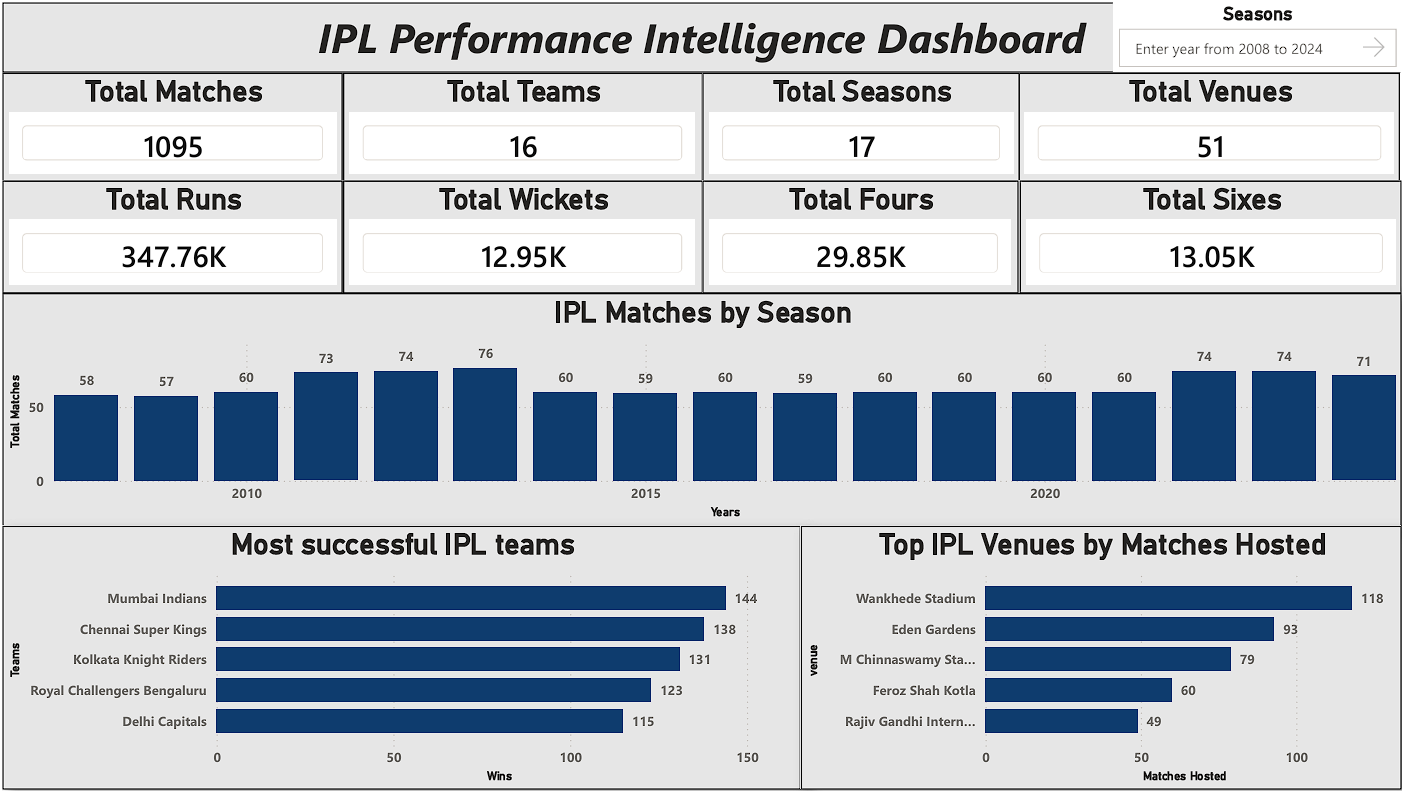

The page's visual inventory and layout, read from the dashboard file:
{"tool":"powerbi","page":{"name":"Page 1","canvas":[1280,720],"ordinal":0},"visuals":[{"type":"cardVisual","title":"Total Teams","fields":{"Data":["matches_cleaned.Total Teams"]},"box":[311.4,64.3,328.6,98.6],"z":0},{"type":"cardVisual","title":"Total Venues","fields":{"Data":["matches_cleaned.Total Venues"]},"box":[928.6,64.3,350,98.6],"z":1000},{"type":"cardVisual","title":"Total Seasons","fields":{"Data":["matches_cleaned.Total Seasons"]},"box":[640,64.3,290,98.6],"z":2000},{"type":"cardVisual","title":"Total Matches","fields":{"Data":["matches_cleaned.Total Matches"]},"box":[0,64.3,311.4,98.6],"z":3000},{"type":"clusteredColumnChart","title":"IPL Matches by Season","fields":{"Category":["matches_cleaned.analysis_year"],"Y":["matches_cleaned.Total Matches"]},"box":[0,265.7,1280,212.9],"z":4000},{"type":"clusteredBarChart","title":"Most successful IPL teams","fields":{"Category":["matches_cleaned.winner"],"Y":["matches_cleaned.Total Wins"]},"box":[0,478.6,730,241.4],"z":5000},{"type":"barChart","title":"Top IPL Venues by Matches Hosted","fields":{"Category":["matches_cleaned.venue"],"Y":["matches_cleaned.Matches Hosted"]},"box":[730,478.6,550,241.4],"z":6000},{"type":"cardVisual","title":"Total Runs","fields":{"Data":["deliveries_cleaned.Total Runs"]},"box":[0,162.9,311.4,102.9],"z":7000},{"type":"cardVisual","title":"Total Wickets","fields":{"Data":["deliveries_cleaned.Total Wickets"]},"box":[311.4,162.9,328.6,102.9],"z":8000},{"type":"cardVisual","title":"Total Fours","fields":{"Data":["deliveries_cleaned.Total Fours"]},"box":[640,162.9,288.6,102.9],"z":9000},{"type":"cardVisual","title":"Total Sixes","fields":{"Data":["deliveries_cleaned.Total Sixes"]},"box":[930,162.9,350,102.9],"z":10000},{"type":"textbox","box":[0,0,1278.6,64.3],"z":11000},{"type":"textSlicer","title":"Seasons","fields":{"Values":["matches_cleaned.analysis_year"]},"box":[1015.7,0,264.3,64.3],"z":12000}]}

Visuals, with their boxes in screenshot pixels (x1, y1, x2, y2), scaled from the page's 1280x720 canvas onto the 1402x791 screenshot:
"Total Teams" cardVisual: crop(341, 71, 701, 179)
"Total Venues" cardVisual: crop(1017, 71, 1400, 179)
"Total Seasons" cardVisual: crop(701, 71, 1019, 179)
"Total Matches" cardVisual: crop(0, 71, 341, 179)
"IPL Matches by Season" clusteredColumnChart: crop(0, 292, 1401, 526)
"Most successful IPL teams" clusteredBarChart: crop(0, 526, 800, 790)
"Top IPL Venues by Matches Hosted" barChart: crop(800, 526, 1401, 790)
"Total Runs" cardVisual: crop(0, 179, 341, 292)
"Total Wickets" cardVisual: crop(341, 179, 701, 292)
"Total Fours" cardVisual: crop(701, 179, 1017, 292)
"Total Sixes" cardVisual: crop(1019, 179, 1401, 292)
textbox: crop(0, 0, 1400, 71)
"Seasons" textSlicer: crop(1113, 0, 1401, 71)
